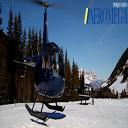helicopter: (16, 2, 70, 121)
